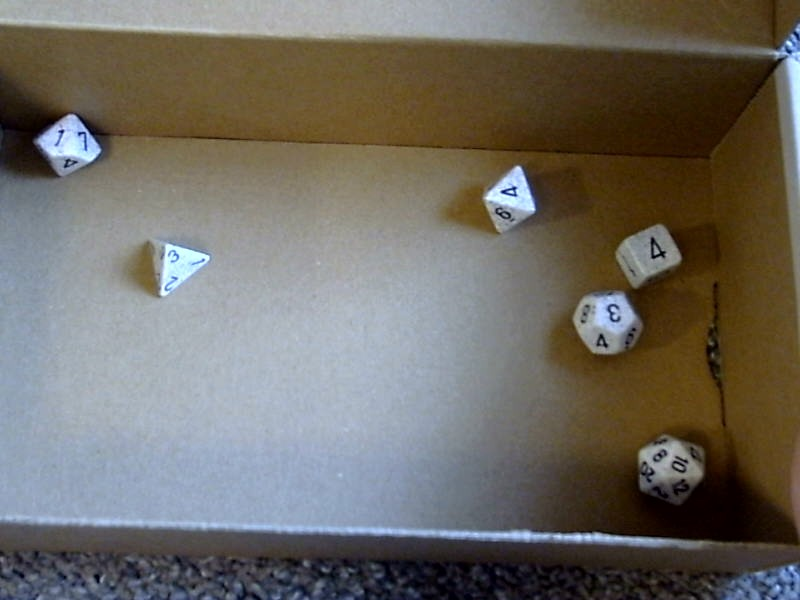d10 1: (27, 109, 102, 186)
d12 3: (569, 286, 645, 361)
d20 10: (627, 424, 713, 512)
d4 3: (138, 234, 215, 304)
d6 4: (613, 220, 686, 289)
d8 4: (479, 162, 540, 243)
